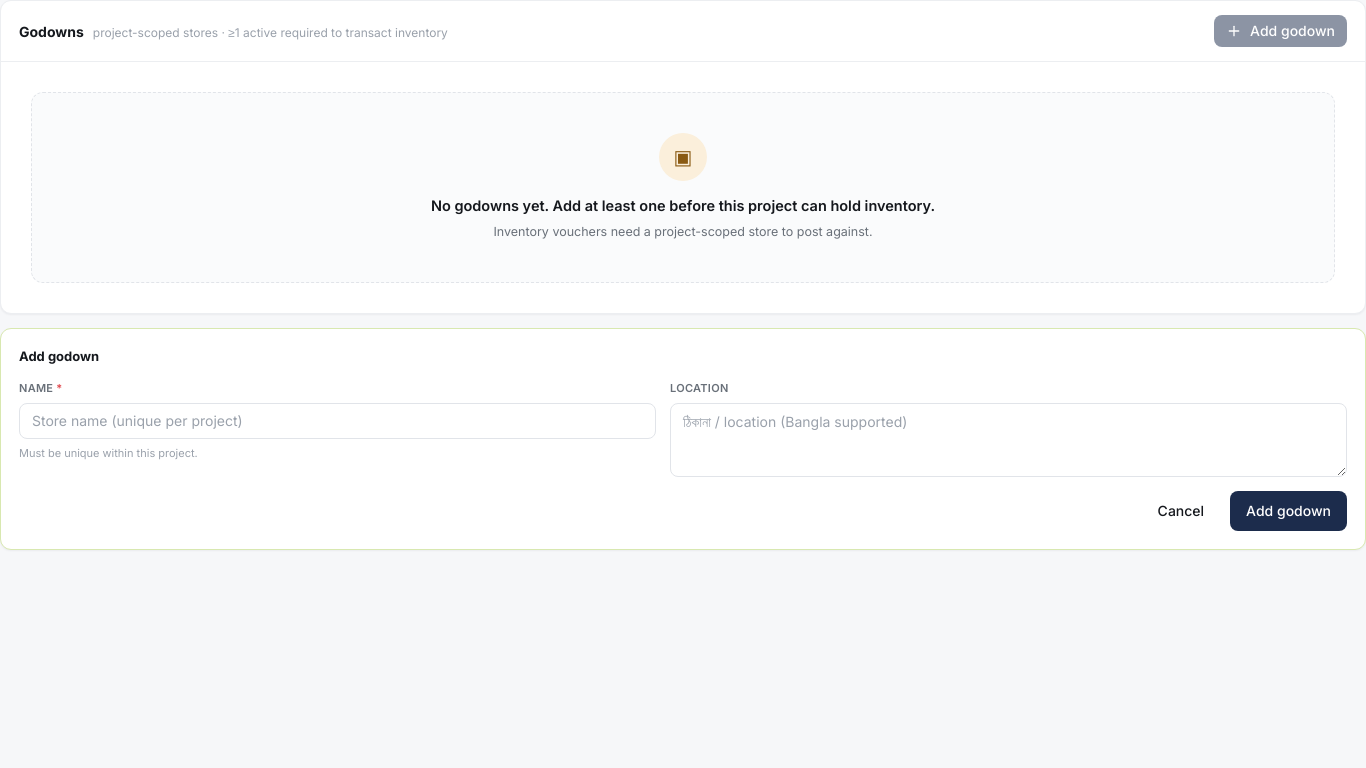
GodownsTab (FR-MAS-014/015) › maps DUPLICATE_NAME to the name field
Expected: the element with test id "godowns-empty" is shown, [1,62,1365,312]
Type "Main Store" into the field labelled "Name *" at x=338, y=420, box [19,402,656,438]
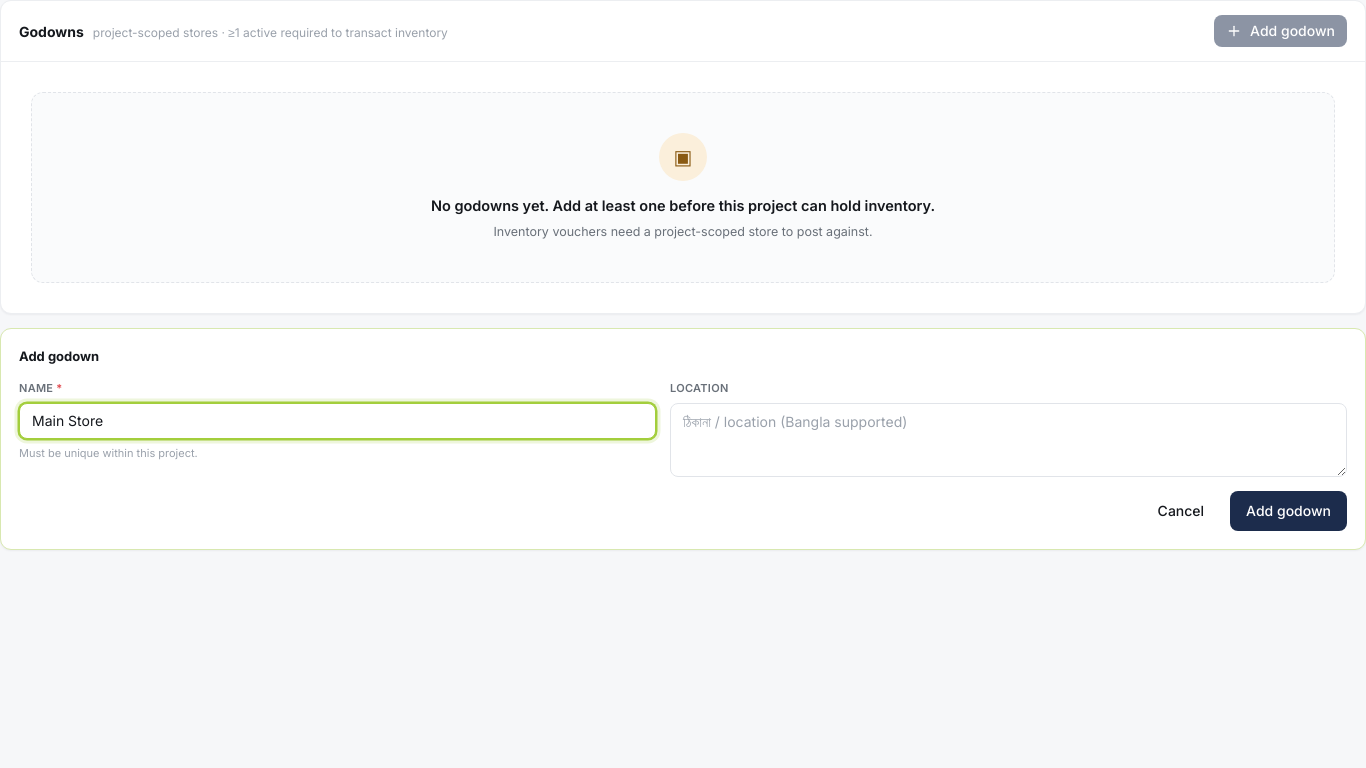
Click the button with test id "godown-save" at x=1289, y=510, box [1230,490,1347,530]
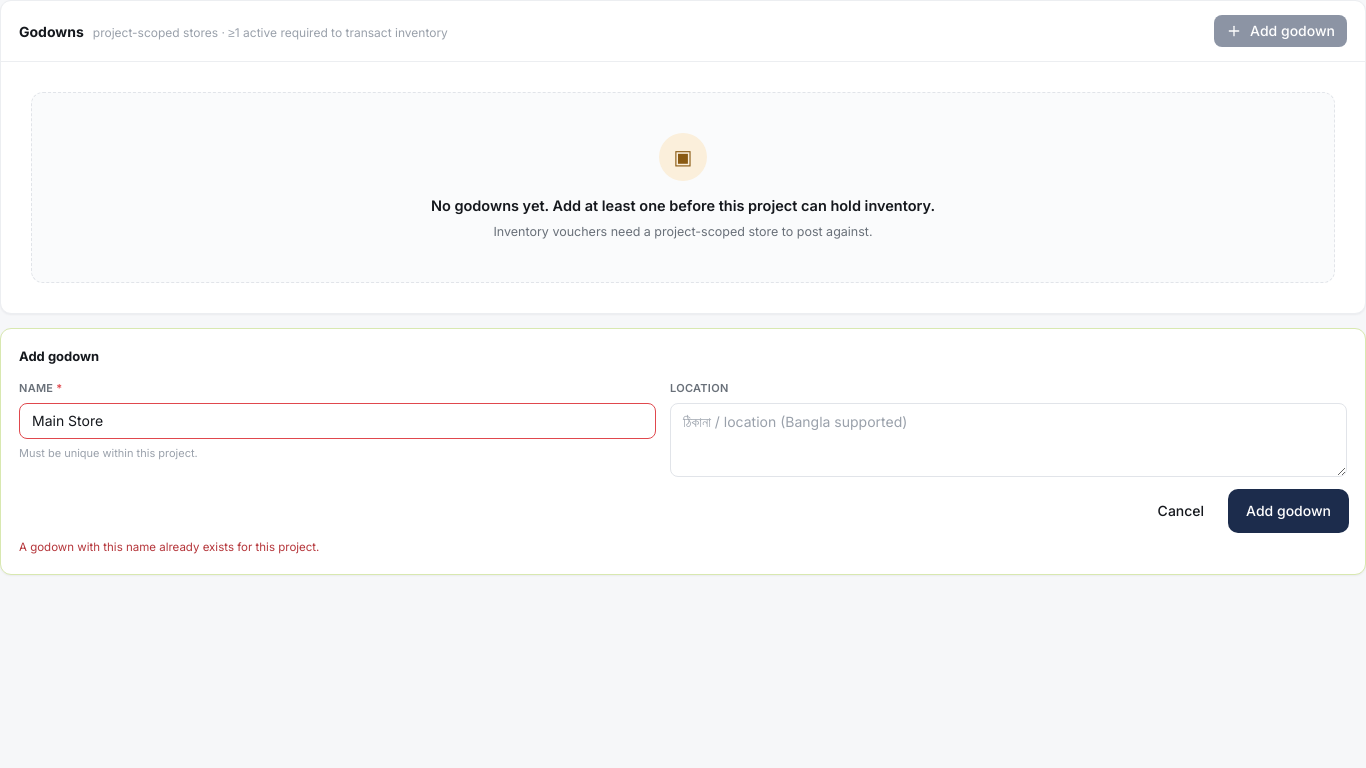
Expected: the text with test id "godown-error" reads "A godown with this name already exists for this project.", [19,540,319,554]
